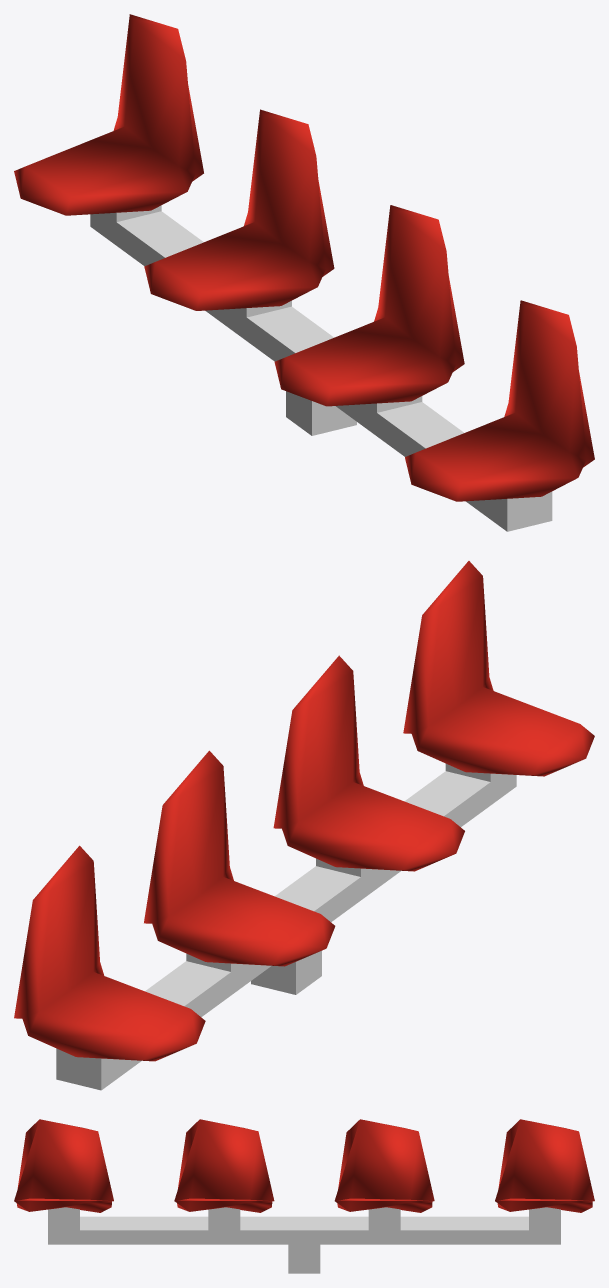
Rendered from seats.glb.
3 renders of one model, top to bottom at view 1: azimuth 30°, elevation 25°; view 2: azimuth 150°, elevation 25°; view 3: azimuth 270°, elevation 25°, orthographic. The views are drawn at different scales.
Visible parts, largest first — view 1: Chairs, Cube; view 2: Chairs, Cube; view 3: Chairs, Cube.
Boxes of the visible parts, x1,y1,x2,y2 form: Chairs: [14, 14, 594, 501]; Cube: [90, 205, 552, 531]; Chairs: [14, 561, 594, 1061]; Cube: [56, 763, 516, 1090]; Chairs: [14, 1119, 594, 1212]; Cube: [48, 1207, 560, 1273].
Bounding box in the file's own units: 0.6331 × 1.08 × 3.63.
